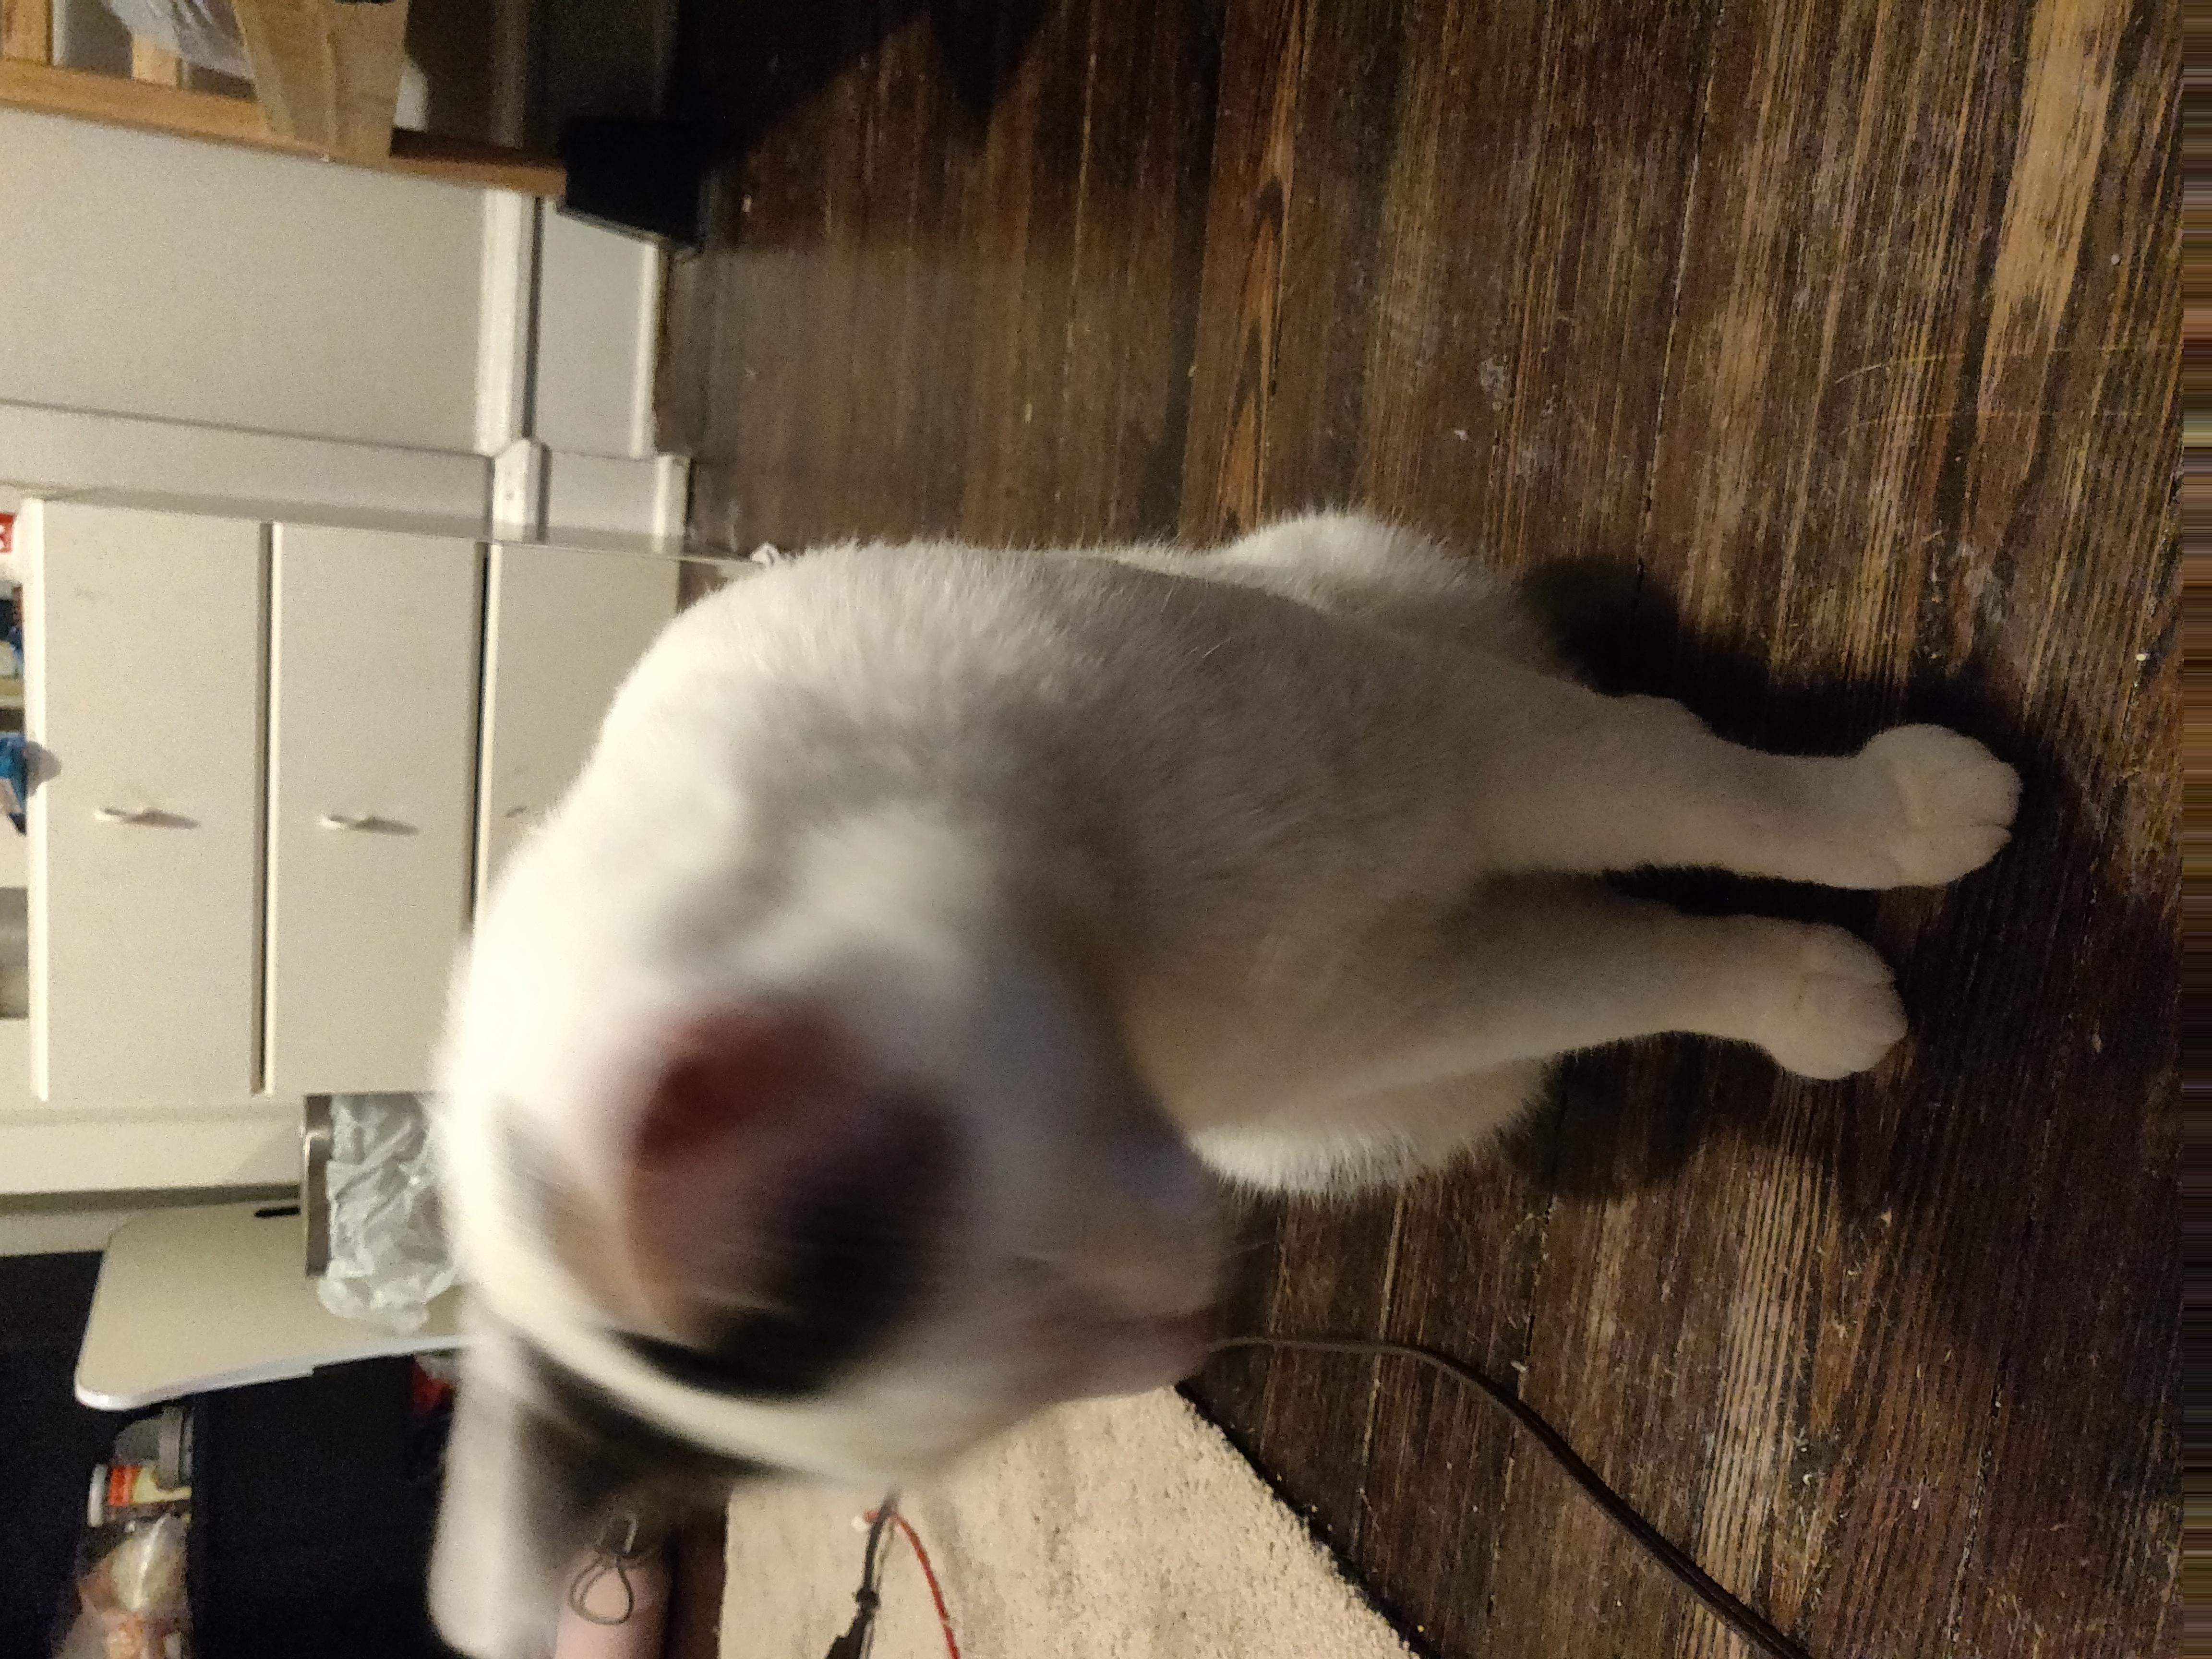cat: (422, 509, 2024, 1643)
